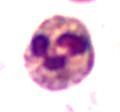eosi: (21, 15, 98, 92)
